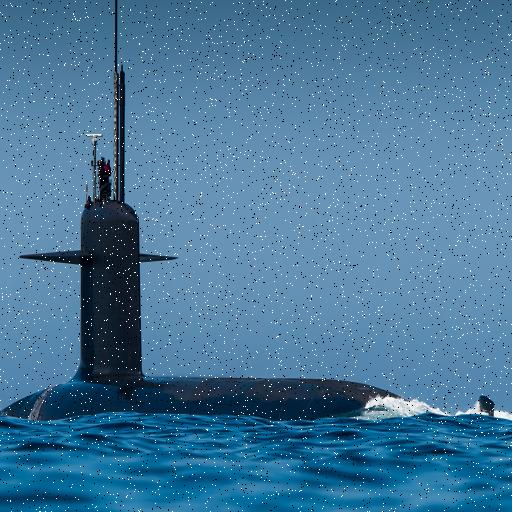submarine: (1, 1, 502, 427)
